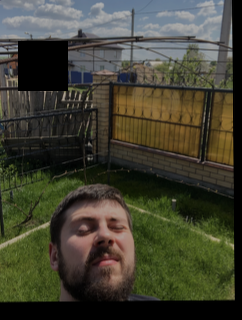without_mask: (65, 208, 135, 301)
